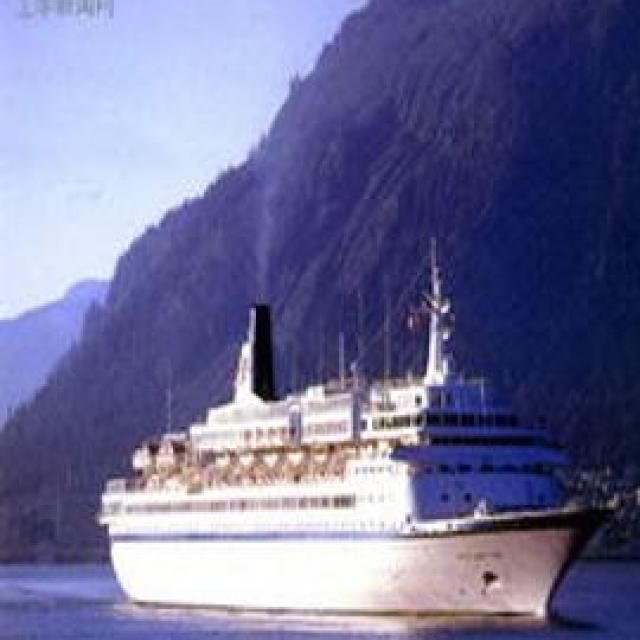passenger ship: (92, 274, 592, 624)
